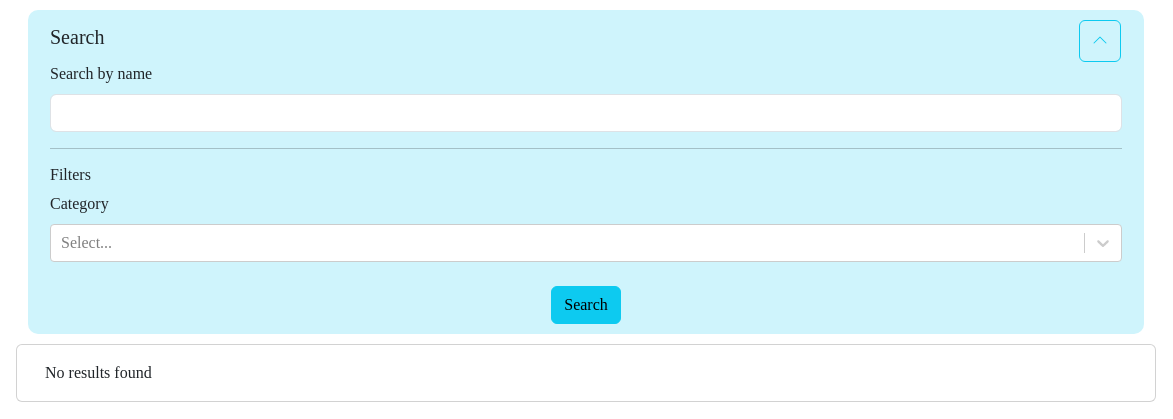
Scenario: EquipmentTab › submit button click
Click the element named "Category" at x=586, y=243, box [50, 224, 1122, 262]
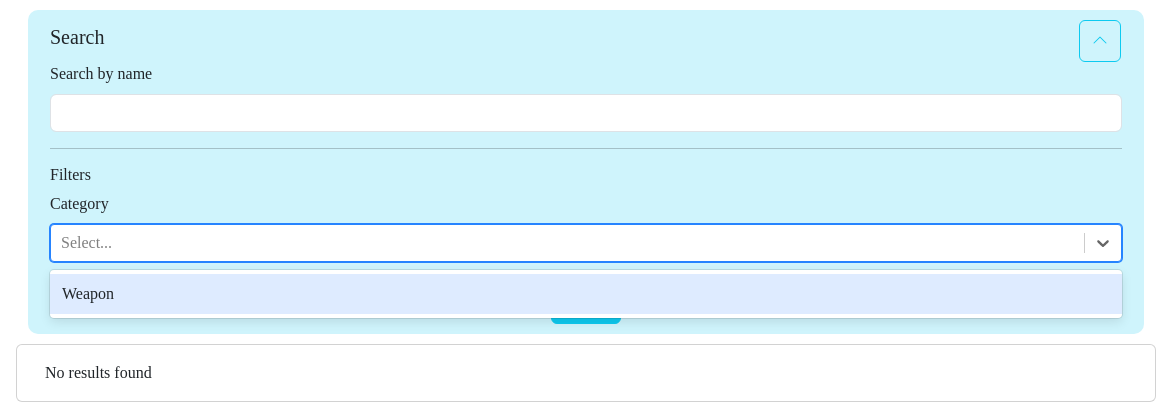
Click the option "Weapon" at x=88, y=294, box [50, 274, 1122, 314]
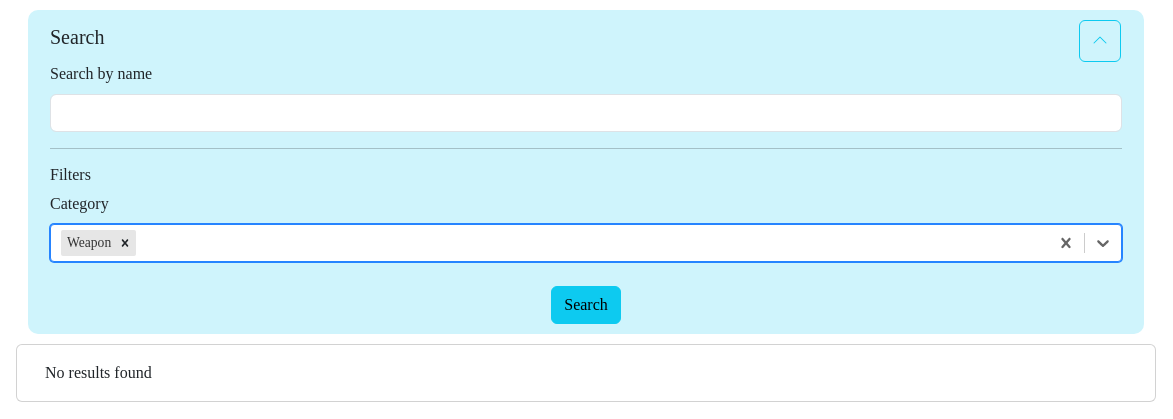
Type "Bow" into the field with test id "search-input" at x=586, y=113, box [50, 94, 1122, 132]
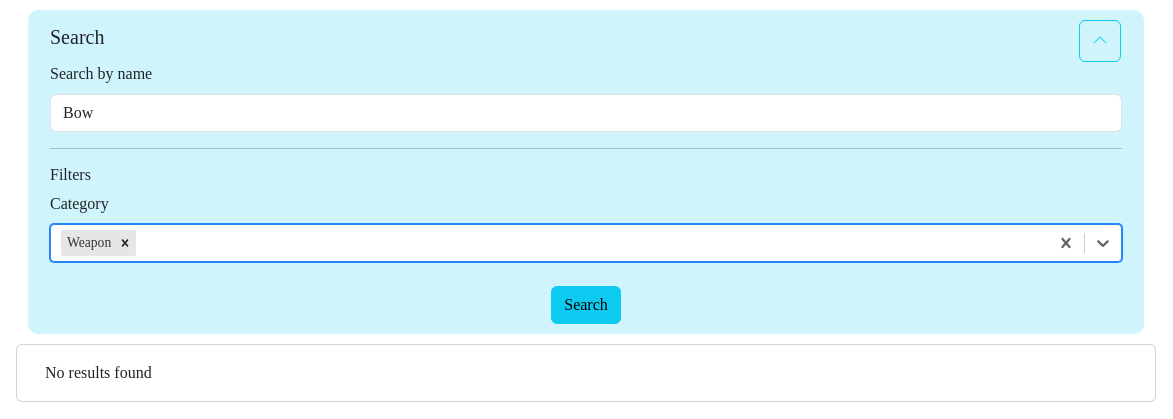
Click the button with test id "search-submit" at x=586, y=305, box [551, 286, 621, 324]
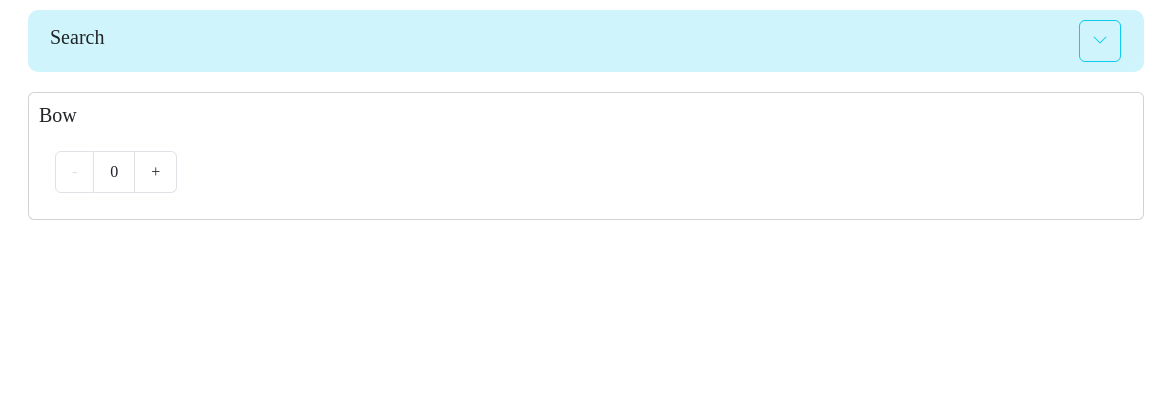
Expected: the element with test id "item-card-bow" is shown, [28, 92, 1144, 220]
